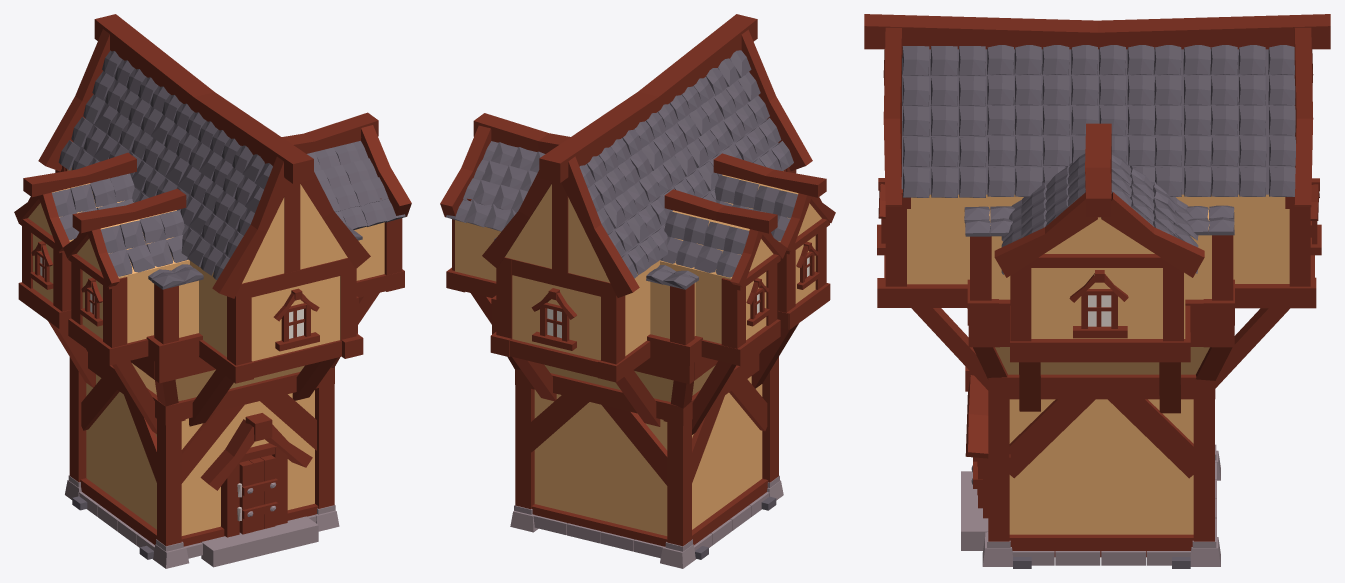
The model's file is Rich_house.fbx.
The picture shows the model from 3 angles, left to right: view 1: azimuth 30°, elevation 25°; view 2: azimuth 150°, elevation 25°; view 3: azimuth 270°, elevation 25°; orthographic projection. The views are drawn at different scales.
Visible parts, largest first — view 1: Домик-хижина; view 2: Домик-хижина; view 3: Домик-хижина.
Part boxes in pixels (<box>): Домик-хижина: <box>14,14,411,568</box>; Домик-хижина: <box>440,14,835,568</box>; Домик-хижина: <box>864,14,1330,568</box>.
Size of the model in its own units: 305 by 385 by 326.
